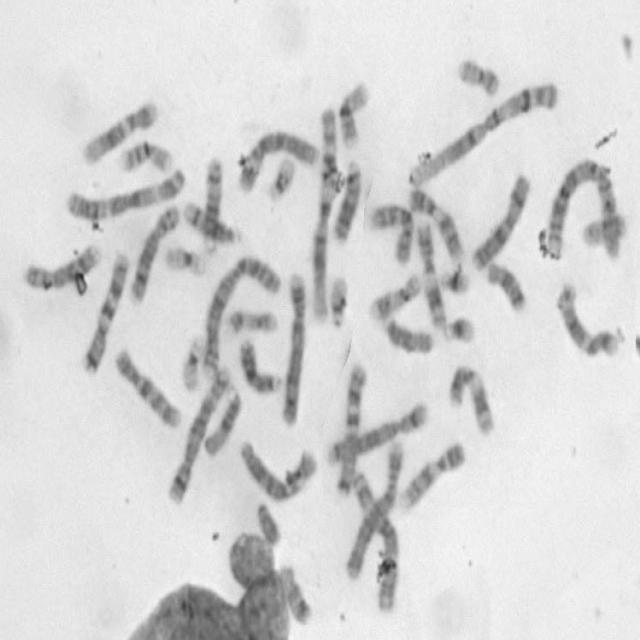A1: (404, 75, 562, 189), (310, 103, 338, 326)
A2: (199, 250, 282, 379), (544, 152, 624, 262)
A3: (62, 161, 188, 221), (352, 472, 403, 616)
B4: (342, 434, 407, 582), (278, 268, 308, 428)
B5: (165, 359, 233, 507), (323, 398, 430, 468)
C10: (111, 343, 185, 432), (366, 196, 415, 266)
C11: (444, 359, 495, 437), (413, 219, 448, 330)
C12: (552, 278, 620, 361), (79, 96, 159, 166)
C6: (235, 124, 320, 194), (238, 437, 319, 504)
C7: (78, 246, 130, 376), (333, 358, 369, 498)
C8: (127, 197, 181, 303), (20, 240, 101, 292)
C9: (396, 437, 466, 512), (406, 183, 465, 264)
D13: (328, 155, 363, 245), (236, 334, 283, 395)
D14: (180, 195, 243, 248), (198, 152, 223, 255)
D15: (202, 385, 242, 458), (380, 311, 434, 357)
E16: (336, 76, 372, 150), (116, 136, 172, 175)
E17: (366, 266, 424, 322), (224, 305, 278, 336)
E18: (484, 256, 527, 314), (278, 560, 314, 626)
F19: (161, 240, 206, 278), (178, 330, 204, 392)
F20: (454, 52, 502, 98), (580, 210, 628, 250)
G21: (440, 312, 477, 346), (436, 264, 471, 296)
G22: (264, 151, 297, 202), (326, 269, 351, 330)
X: (468, 168, 532, 273)
Y: (253, 498, 282, 546)
